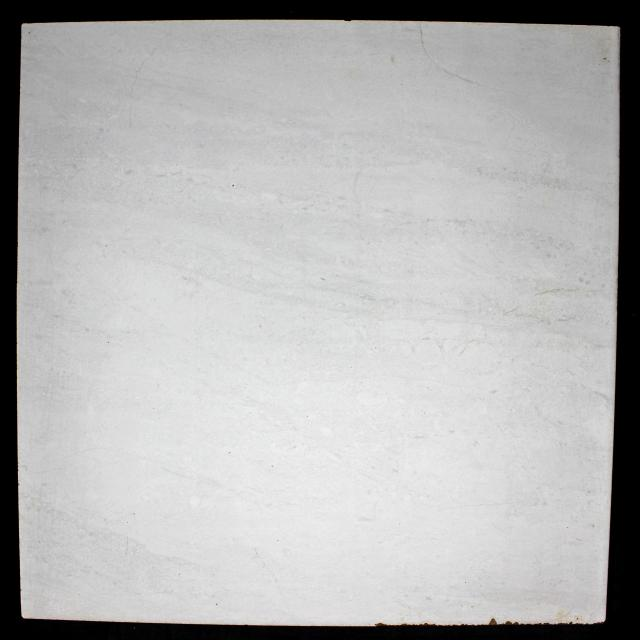edge-chipping: (504, 621, 520, 625), (488, 618, 497, 625), (374, 622, 388, 626), (423, 622, 429, 626), (543, 622, 550, 625), (344, 20, 352, 22), (400, 623, 408, 625), (568, 621, 573, 624)
line: (419, 21, 426, 49)
